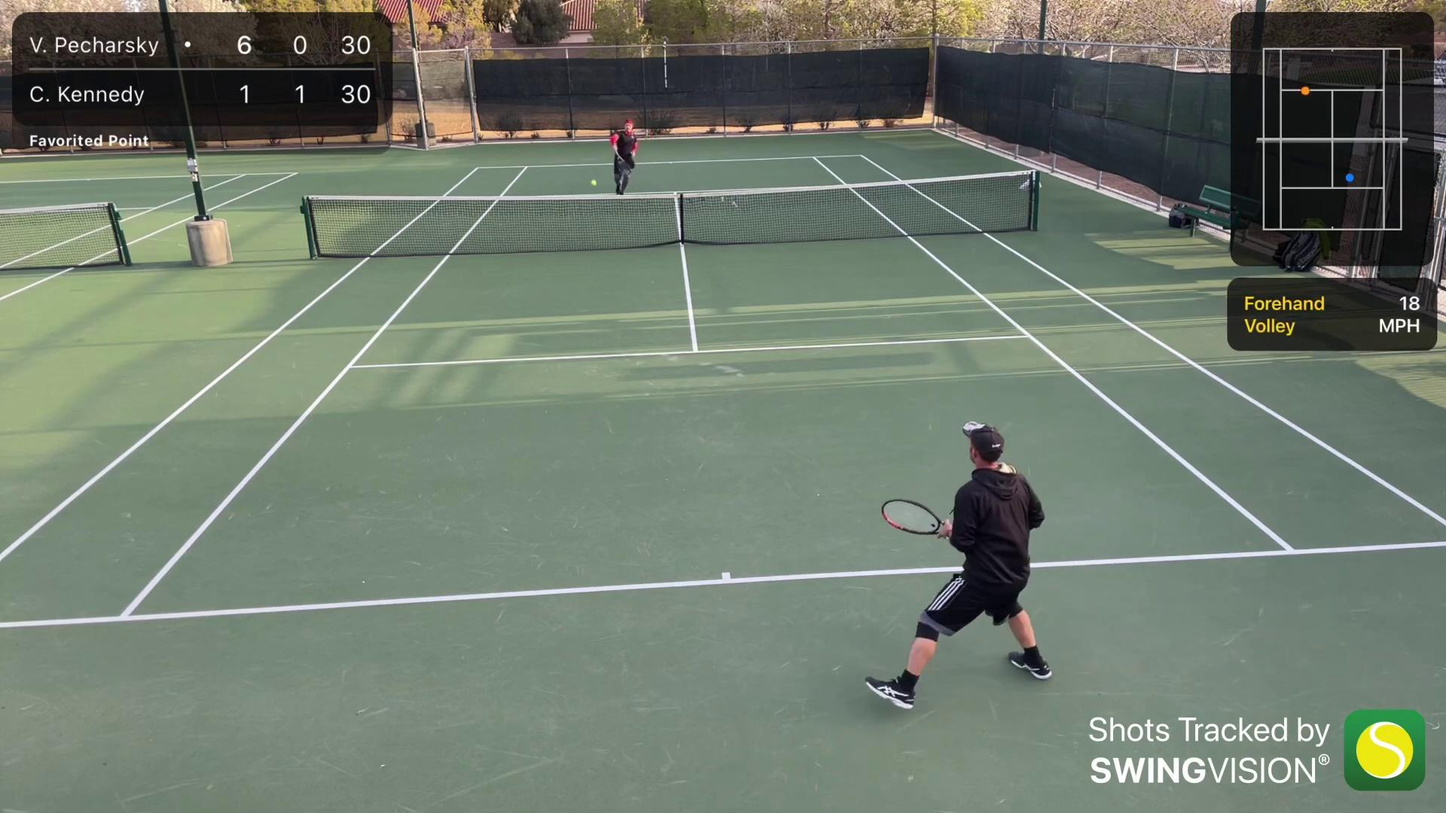ball: (590, 181, 597, 187)
